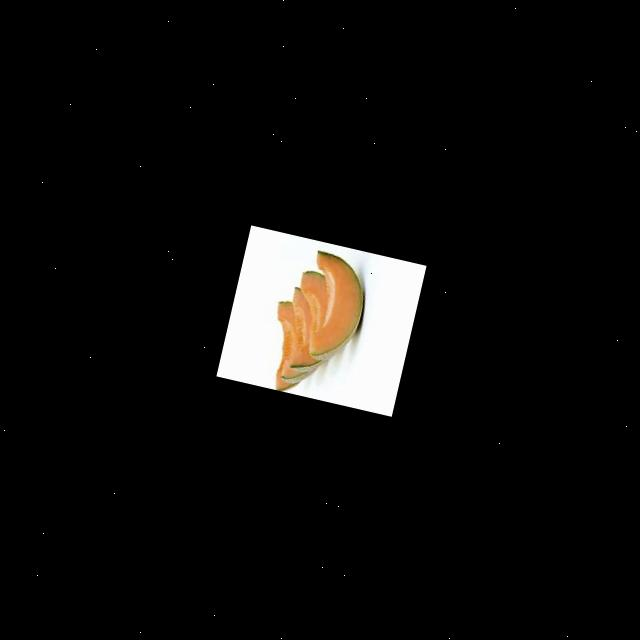Hami Melon: (294, 250, 372, 364), (280, 271, 344, 375), (272, 284, 326, 384), (258, 298, 312, 392)
